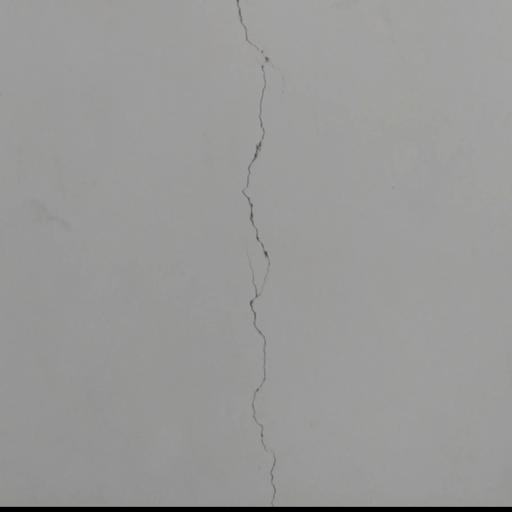minor_crack: (204, 10, 310, 512)
